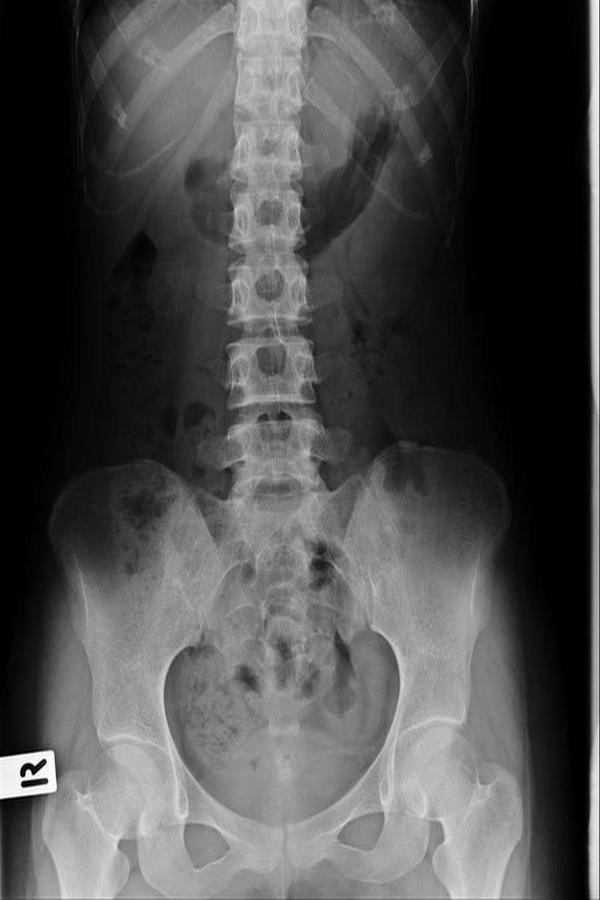lumbar scoliosis: (218, 8, 326, 528)
